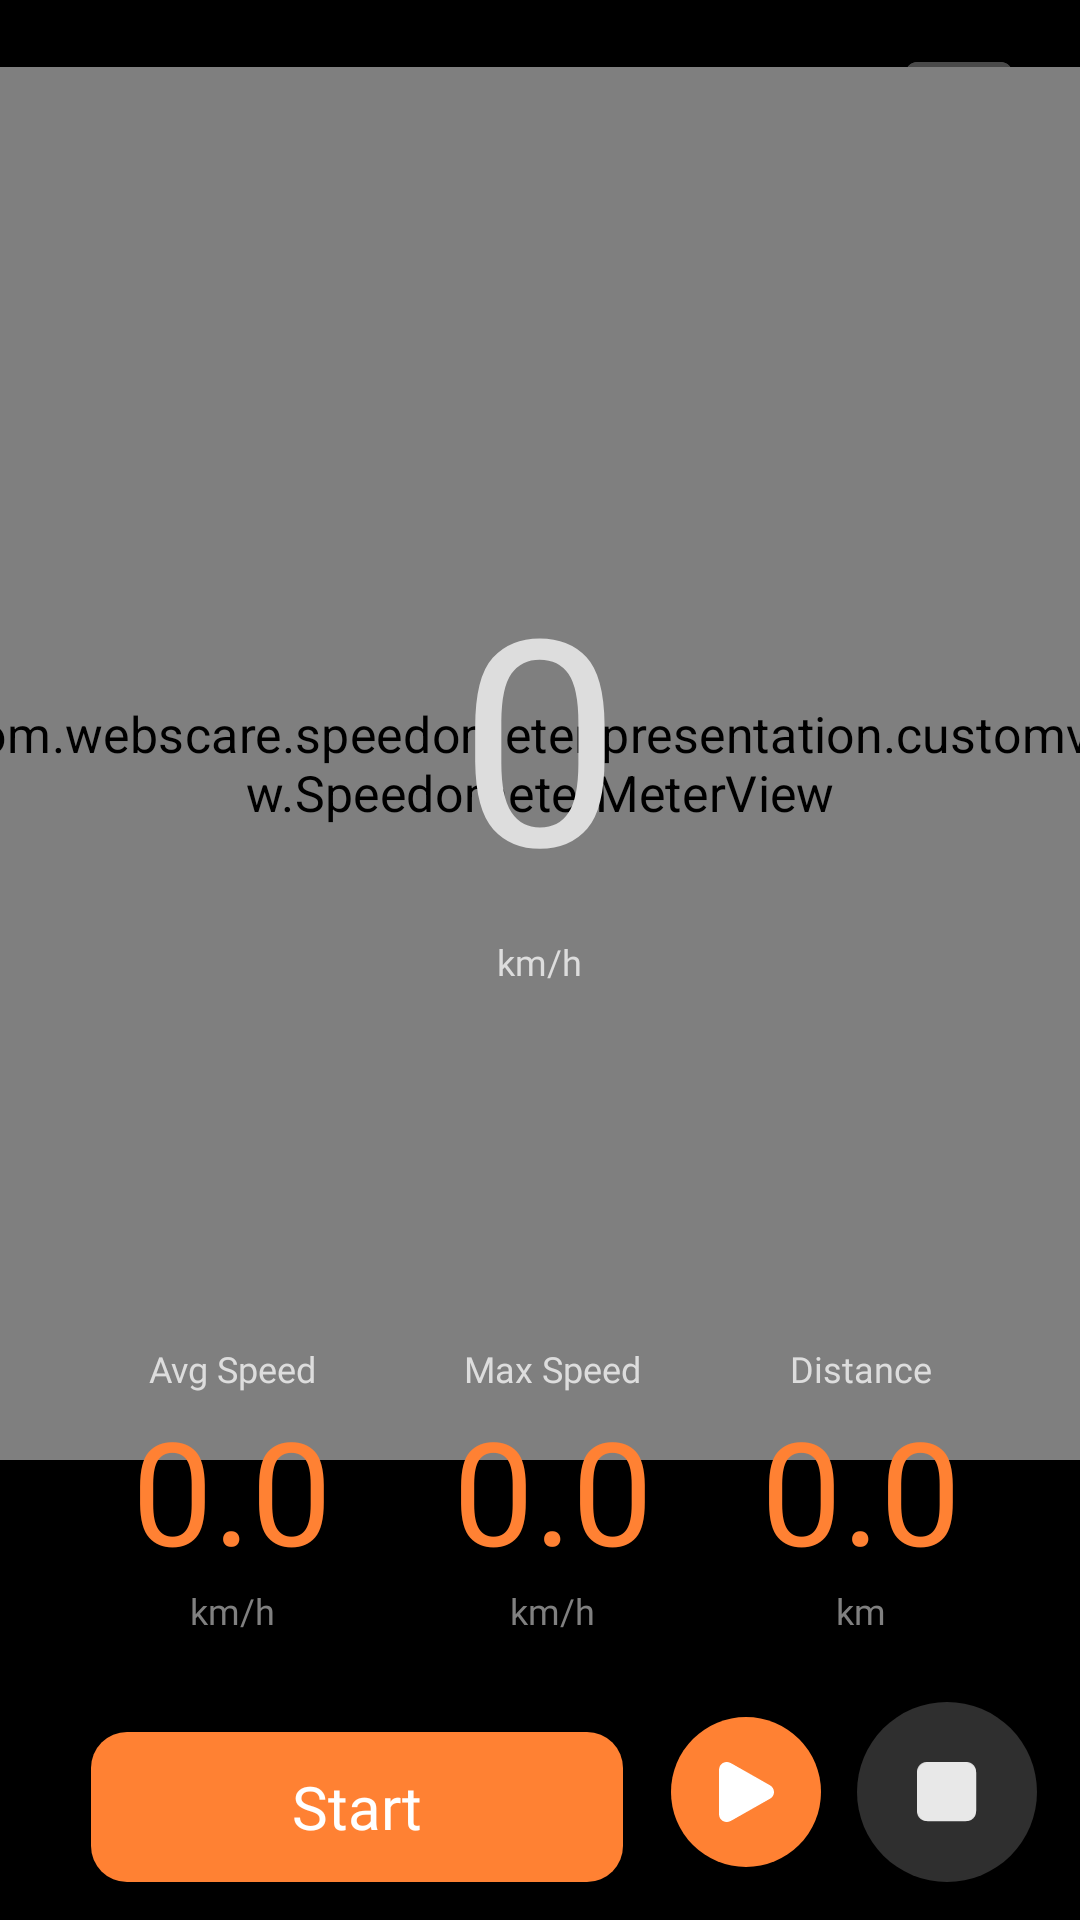

Icon click points for this 1080*1920 phone screenshot, format point (x, y):
stop: point (947, 1792)
